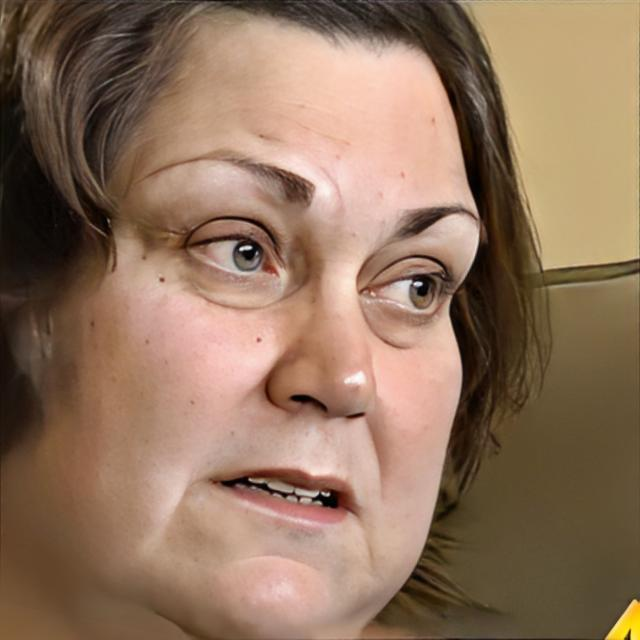disgust: (0, 3, 482, 640)
